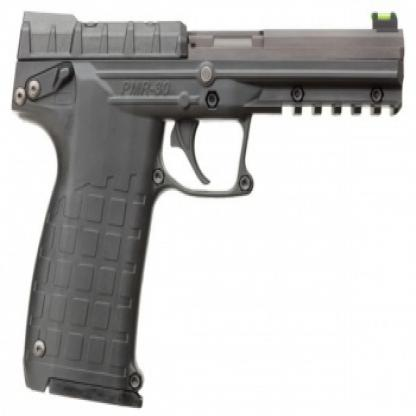Guns: (8, 5, 406, 414)
